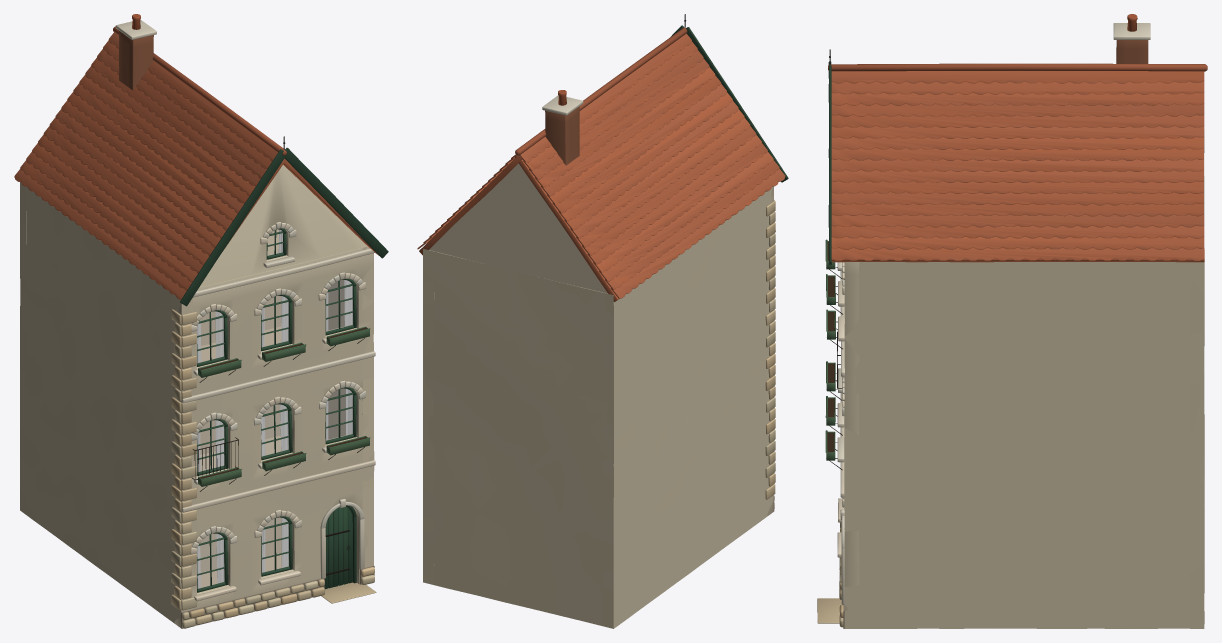
The model's file is GateStreet_Bend1.glb.
3 views of the same model, side by side, from view 1: azimuth 30°, elevation 25°; view 2: azimuth 150°, elevation 25°; view 3: azimuth 270°, elevation 25° (orthographic). The views are drawn at different scales.
Visible parts, largest first — view 1: Sammel Quader, Sammel Stein, Sammel Lack, Sammel Putz, Glas, Sammel Putz innen, Vorhang Leinen, Sammel Ziegel, Sammel Metall; view 2: Sammel Quader, Sammel Stein, Sammel Ziegel, Sammel Lack, Sammel Putz; view 3: Sammel Quader, Sammel Stein, Sammel Putz, Sammel Lack, Sammel Ziegel.
Boxes of the visible parts, x1,y1,x2,y2 form: Sammel Quader: (20,165,374,627); Sammel Stein: (14,26,378,628); Sammel Lack: (180,147,388,592); Sammel Putz: (115,14,375,628); Glas: (197,229,352,588); Sammel Putz innen: (200,229,345,587); Vorhang Leinen: (197,229,352,588); Sammel Ziegel: (119,31,153,90); Sammel Metall: (191,136,364,575); Sammel Quader: (423,163,773,628); Sammel Stein: (417,27,785,508); Sammel Ziegel: (545,106,579,165); Sammel Lack: (671,25,788,182); Sammel Putz: (542,90,774,511); Sammel Quader: (844,153,1204,628); Sammel Stein: (817,63,1207,627); Sammel Putz: (827,14,1150,628); Sammel Lack: (825,61,835,460); Sammel Ziegel: (1116,40,1148,63).
Size of the model in its own units: 5.95 by 13.61 by 8.68.
